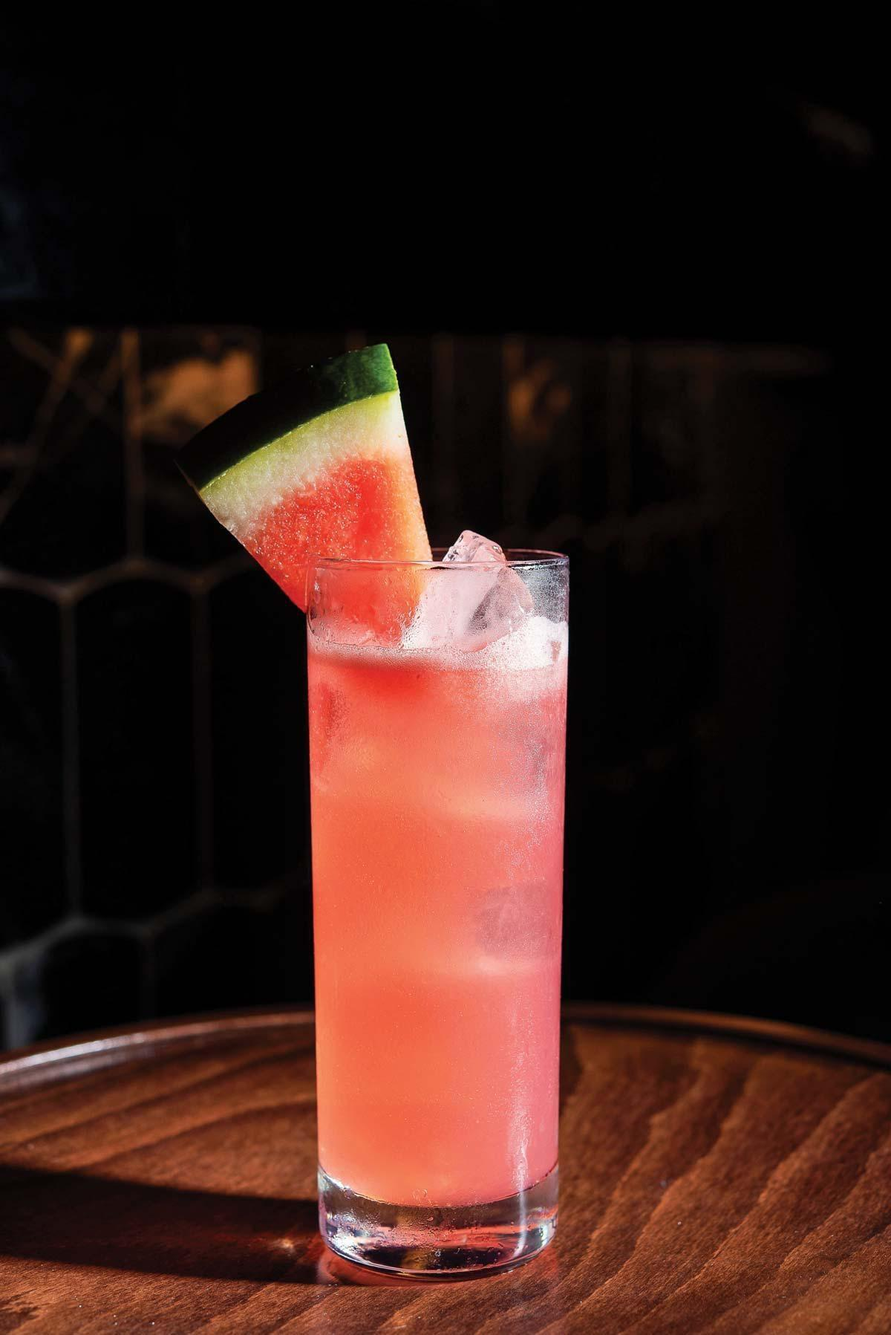glass-normal: (301, 544, 574, 1282)
